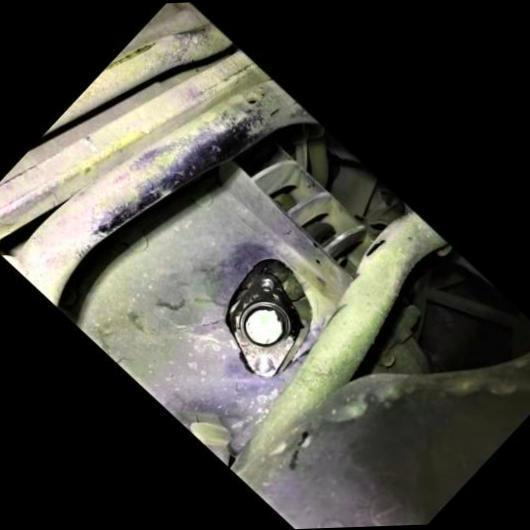hole: (248, 349, 279, 380), (252, 272, 277, 296)
